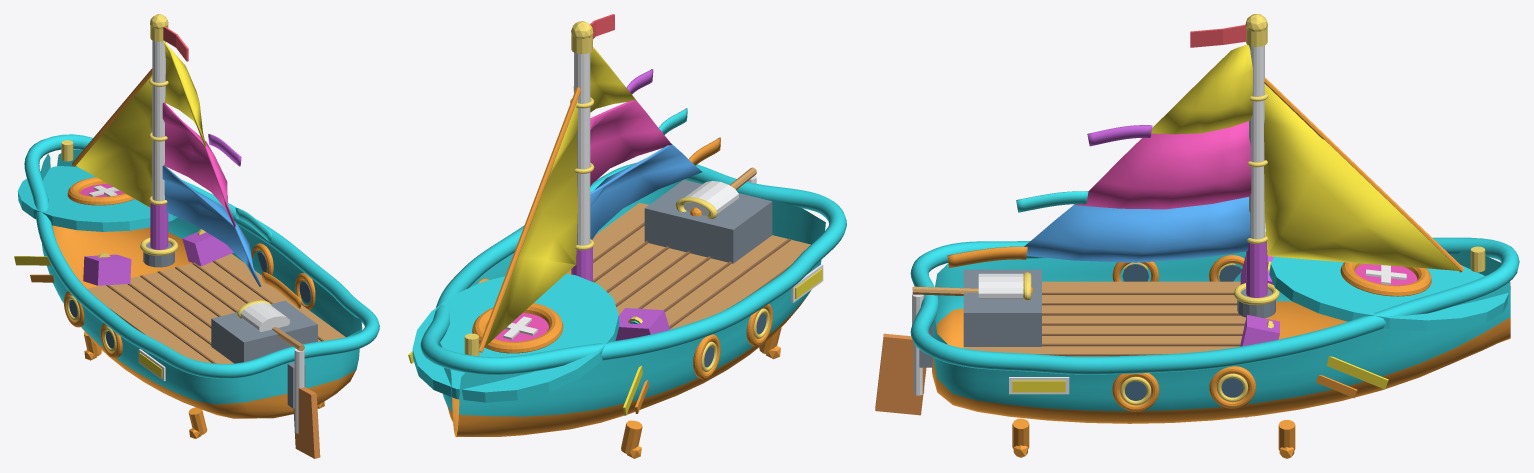
The model's file is boat_kairos.glb.
3 views of the same model, side by side, from view 1: azimuth 30°, elevation 25°; view 2: azimuth 150°, elevation 25°; view 3: azimuth 270°, elevation 25° (orthographic). The views are drawn at different scales.
Parts seen in each view (by area): view 1: KairosHull, GunwaleBumper, CockpitTeakFloor, JibSail, Foredeck, EngineHousing, MainSail_BlueBottom, MainSail_MagentaMid, MainMastPole, MainSail_YellowTop, RudderBlade, Console_-1 (+13 smaller); view 2: KairosHull, GunwaleBumper, CockpitTeakFloor, Foredeck, JibSail, EngineHousing, MainSail_BlueBottom, MainSail_MagentaMid, MainMastPole, MedallionRing, ForestayWire, MainSail_YellowTop (+8 smaller); view 3: KairosHull, JibSail, GunwaleBumper, CockpitTeakFloor, MainSail_BlueBottom, MainSail_MagentaMid, Foredeck, MainSail_YellowTop, EngineHousing, RudderBlade, MainMastPole, MedallionRing (+15 smaller).
Part boxes in pixels (x1,y1,x2,y2): KairosHull: (40, 149, 362, 418); GunwaleBumper: (24, 134, 379, 378); CockpitTeakFloor: (87, 253, 345, 363); JibSail: (76, 75, 152, 207); Foredeck: (17, 166, 177, 231); EngineHousing: (211, 300, 317, 363); MainSail_BlueBottom: (162, 165, 261, 286); MainSail_MagentaMid: (162, 102, 235, 227); MainMastPole: (152, 40, 165, 201); MainSail_YellowTop: (163, 41, 205, 146); RudderBlade: (293, 387, 320, 458); Console_-1: (83, 254, 131, 285); KairosHull: (438, 179, 825, 437); GunwaleBumper: (420, 163, 846, 375); CockpitTeakFloor: (566, 202, 810, 329); Foredeck: (412, 274, 619, 402); JibSail: (484, 100, 577, 346); EngineHousing: (644, 180, 772, 263); MainSail_BlueBottom: (590, 143, 701, 239); MainSail_MagentaMid: (590, 100, 671, 186); MainMastPole: (574, 52, 590, 245); MedallionRing: (472, 303, 563, 353); ForestayWire: (479, 87, 580, 352); MainSail_YellowTop: (573, 47, 635, 112); KairosHull: (932, 250, 1510, 423); JibSail: (1264, 84, 1460, 270); GunwaleBumper: (910, 232, 1519, 374); CockpitTeakFloor: (963, 281, 1245, 356); MainSail_BlueBottom: (1024, 197, 1250, 262); MainSail_MagentaMid: (1075, 121, 1251, 209); Foredeck: (1269, 256, 1508, 331); MainSail_YellowTop: (1151, 44, 1252, 134); EngineHousing: (963, 269, 1041, 346); RudderBlade: (875, 333, 926, 415); MainMastPole: (1249, 45, 1264, 239); MedallionRing: (1340, 262, 1431, 296).
Size of the model in its own units: 2.47 by 3.76 by 5.33.
